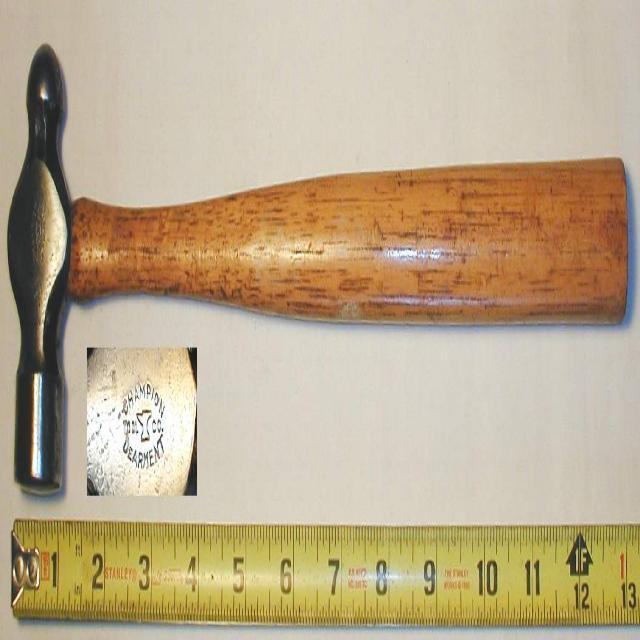hammer: (0, 25, 634, 515)
